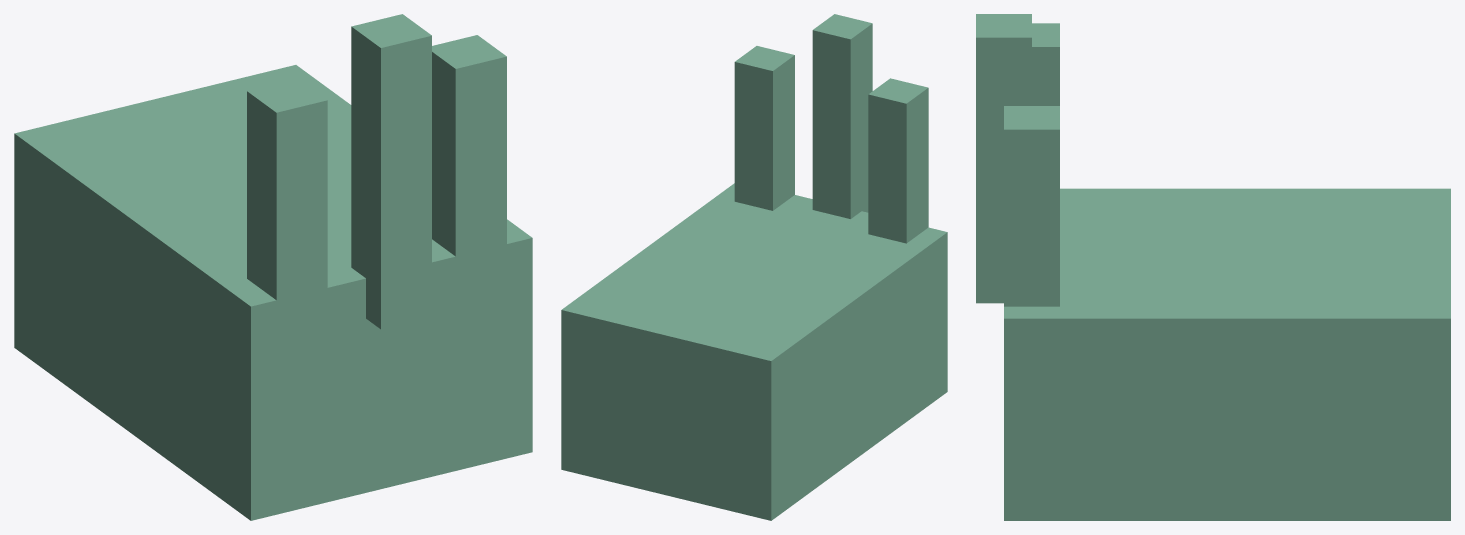
The model's file is swamp_hydra.glb.
3 renders of one model, left to right at view 1: azimuth 30°, elevation 25°; view 2: azimuth 150°, elevation 25°; view 3: azimuth 270°, elevation 25°, orthographic. The views are drawn at different scales.
Parts seen in each view (by area): view 1: swamp_hydra; view 2: swamp_hydra; view 3: swamp_hydra.
Boxes of the visible parts, x1=… form: swamp_hydra: x1=14, y1=14, x2=532, y2=520; swamp_hydra: x1=561, y1=14, x2=947, y2=520; swamp_hydra: x1=976, y1=14, x2=1450, y2=520.
Bounding box in the file's own units: 2.2 × 3.4 × 3.4.
